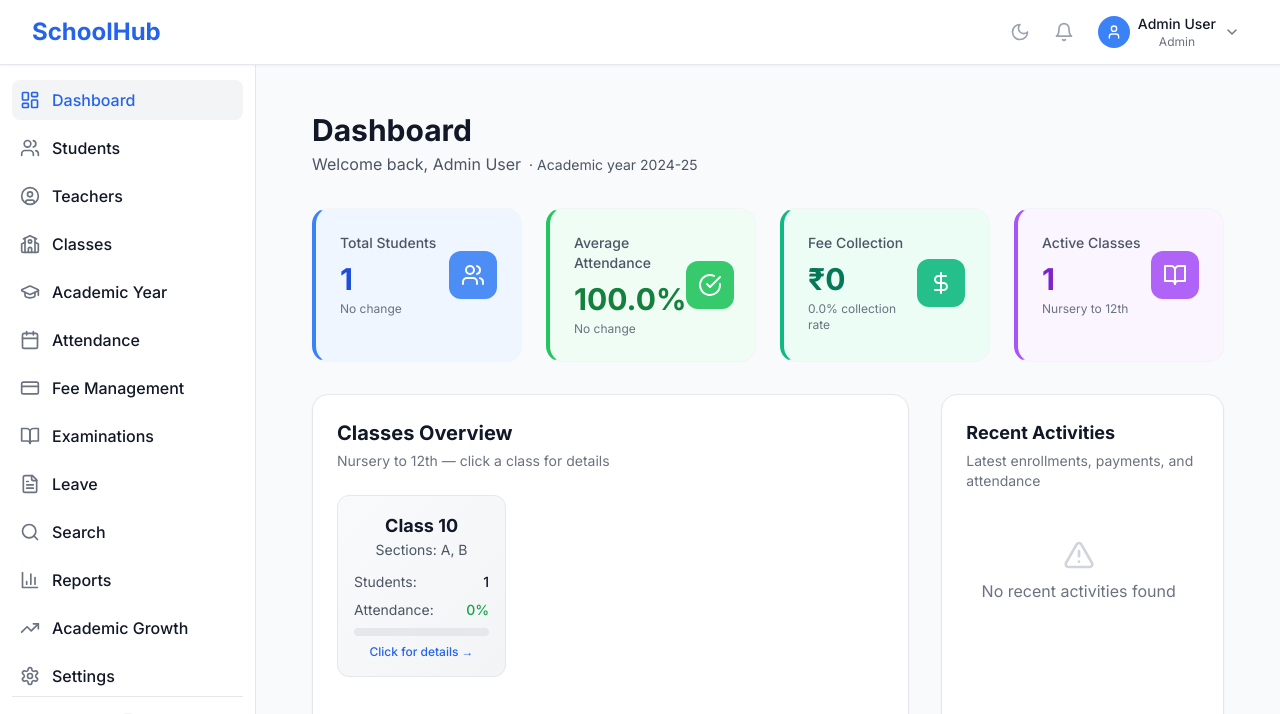
Scenario: App Component › Header Buttons › should toggle notification dropdown when notification button is clicked
The width and height of the screenshot is (1280, 714).
Click the button titled "notifications" at (1064,32), box [1046, 14, 1082, 50]
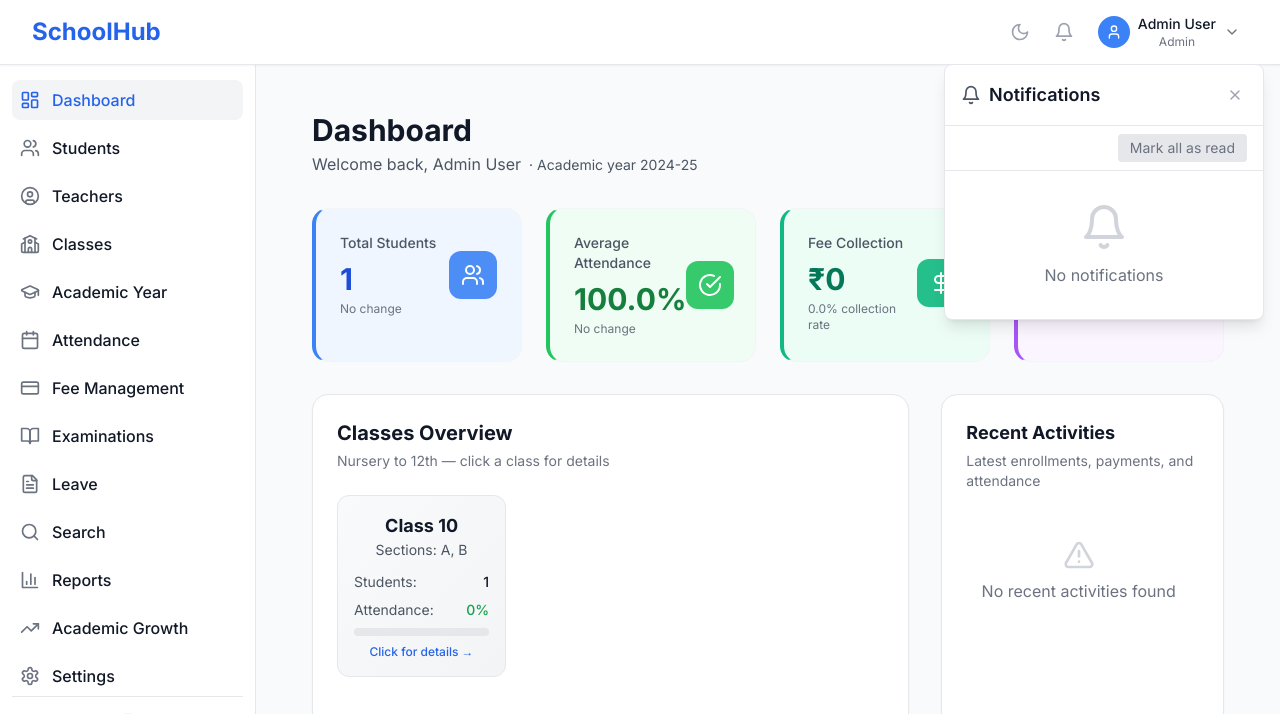
Now the button "Mark all as read" is shown, box [1118, 134, 1247, 162]
